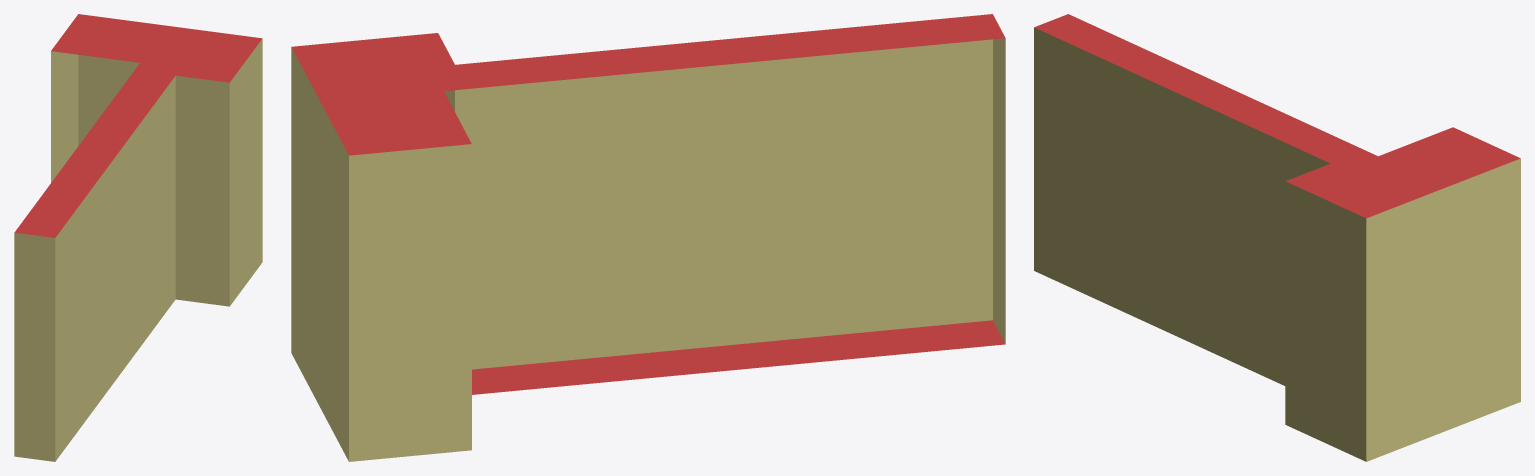
3 renders of one model, left to right at view 1: azimuth 30°, elevation 25°; view 2: azimuth 150°, elevation 25°; view 3: azimuth 270°, elevation 25°, orthographic. The views are drawn at different scales.
Parts seen in each view (by area): view 1: group_4, group_3; view 2: group_4, group_3, group_5; view 3: group_4, group_3.
Boxes of the visible parts, bbox=[...] form: group_4: bbox=[14, 39, 262, 461]; group_3: bbox=[14, 14, 262, 237]; group_4: bbox=[291, 38, 1005, 461]; group_3: bbox=[291, 14, 1005, 155]; group_5: bbox=[472, 320, 1005, 394]; group_4: bbox=[1034, 27, 1520, 461]; group_3: bbox=[1034, 14, 1520, 218].
Size of the model in its own units: 14.42 by 14.51 by 8.01.
